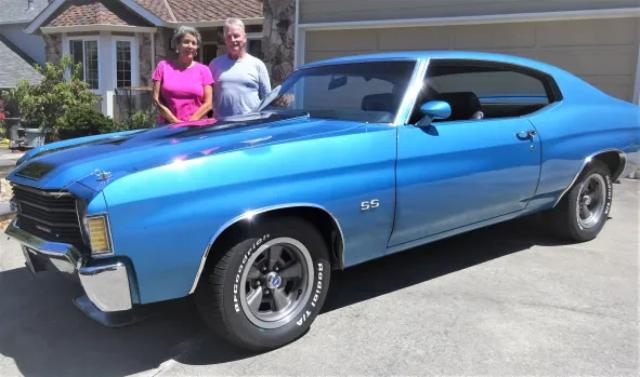chevelle-1972: (5, 50, 639, 352)
